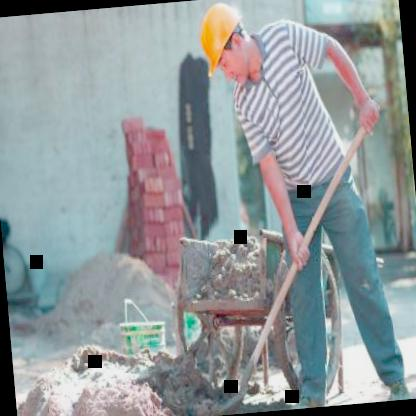helmet: (193, 0, 263, 92)
